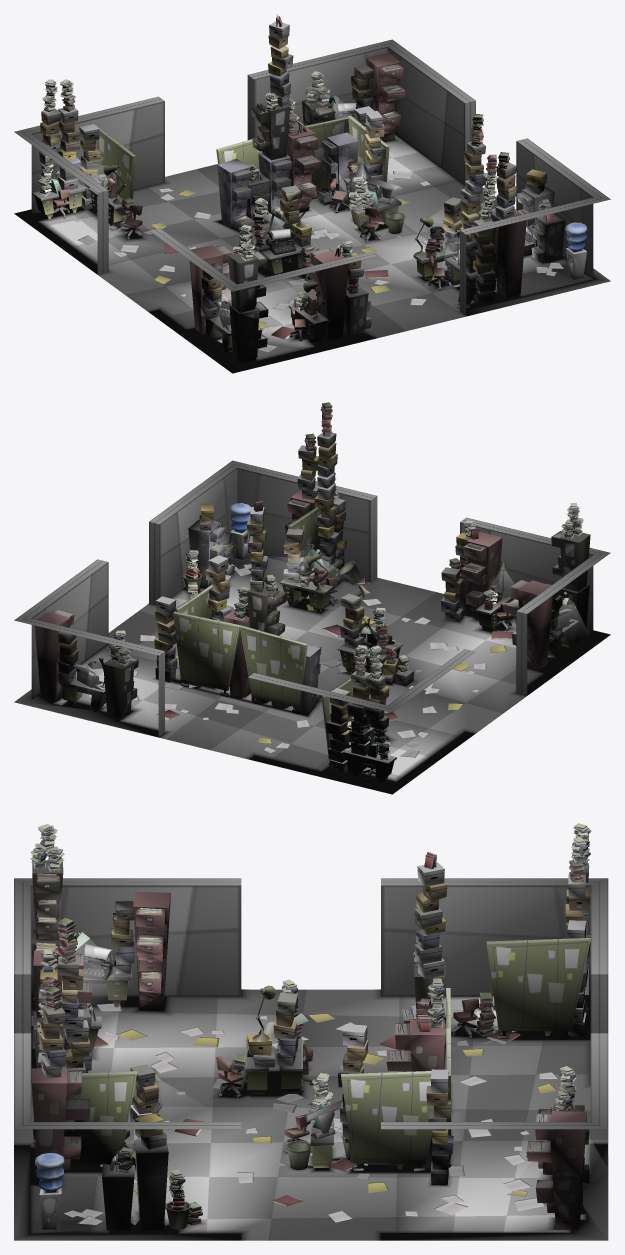
The model's file is field_maze_quadrant5.glb.
The picture shows the model from 3 angles, top to bottom: view 1: azimuth 30°, elevation 25°; view 2: azimuth 150°, elevation 25°; view 3: azimuth 270°, elevation 25°; orthographic projection. The views are drawn at different scales.
Parts seen in each view (by area): view 1: maze_floor, maze3_grouping3, maze2_grouping2, maze1_grouping1, maze6_grouping6, maze5_grouping5a, maze5_grouping5b, maze4_grouping4, maze7_floorPaperGrouping, maze6_floorShadow_grouping6, maze5_floorShadow_grouping5, maze2_floorShadow_grouping2 (+6 smaller); view 2: maze_floor, maze6_grouping6, maze3_grouping3, maze5_grouping5a, maze1_grouping1, maze2_grouping2, maze5_grouping5b, maze4_grouping4, maze7_floorPaperGrouping, maze2_floorShadow_grouping2, maze1_floorShadow_grouping1, maze6_floorShadow_grouping6 (+4 smaller); view 3: maze_floor, maze2_grouping2, maze6_grouping6, maze3_grouping3, maze5_grouping5a, maze1_grouping1, maze5_grouping5b, maze7_floorPaperGrouping, maze4_grouping4, maze5_floorShadow_grouping5, maze1_floorShadow_grouping1, maze2_floorShadow_grouping2 (+8 smaller).
Boxes of the visible parts, x1,y1,x2,y2 form: maze_floor: [16, 135, 608, 373]; maze3_grouping3: [216, 14, 405, 242]; maze2_grouping2: [14, 79, 164, 274]; maze1_grouping1: [247, 39, 475, 184]; maze6_grouping6: [149, 224, 376, 362]; maze5_grouping5a: [460, 138, 610, 315]; maze5_grouping5b: [413, 113, 498, 308]; maze4_grouping4: [228, 185, 319, 280]; maze7_floorPaperGrouping: [74, 171, 563, 352]; maze6_floorShadow_grouping6: [146, 306, 381, 373]; maze5_floorShadow_grouping5: [413, 252, 610, 316]; maze2_floorShadow_grouping2: [14, 179, 171, 276]; maze_floor: [16, 552, 608, 794]; maze6_grouping6: [441, 503, 610, 695]; maze3_grouping3: [154, 501, 321, 714]; maze5_grouping5a: [149, 433, 377, 604]; maze1_grouping1: [14, 559, 164, 736]; maze2_grouping2: [248, 645, 475, 783]; maze5_grouping5b: [280, 402, 365, 612]; maze4_grouping4: [337, 584, 413, 686]; maze7_floorPaperGrouping: [89, 564, 550, 757]; maze2_floorShadow_grouping2: [244, 728, 477, 794]; maze1_floorShadow_grouping1: [14, 643, 171, 738]; maze6_floorShadow_grouping6: [439, 613, 610, 697]; maze_floor: [14, 989, 608, 1240]; maze2_grouping2: [381, 823, 608, 1039]; maze6_grouping6: [14, 824, 241, 1072]; maze3_grouping3: [284, 852, 453, 1185]; maze5_grouping5a: [14, 986, 241, 1230]; maze1_grouping1: [381, 1033, 608, 1229]; maze5_grouping5b: [33, 918, 164, 1172]; maze7_floorPaperGrouping: [63, 1003, 577, 1224]; maze4_grouping4: [216, 979, 313, 1097]; maze5_floorShadow_grouping5: [14, 1142, 248, 1240]; maze1_floorShadow_grouping1: [373, 1141, 608, 1240]; maze2_floorShadow_grouping2: [374, 989, 590, 1087].
Size of the model in its own units: 51.36 by 25.36 by 51.23.
10 materials, 7 textured.
